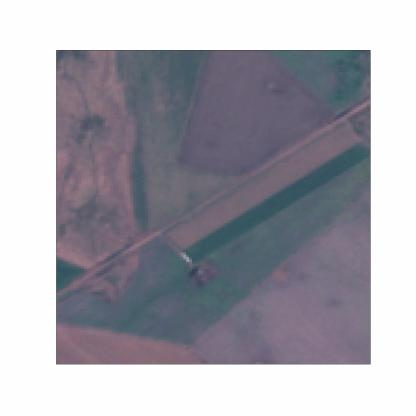silobolsa: (178, 250, 192, 266)
